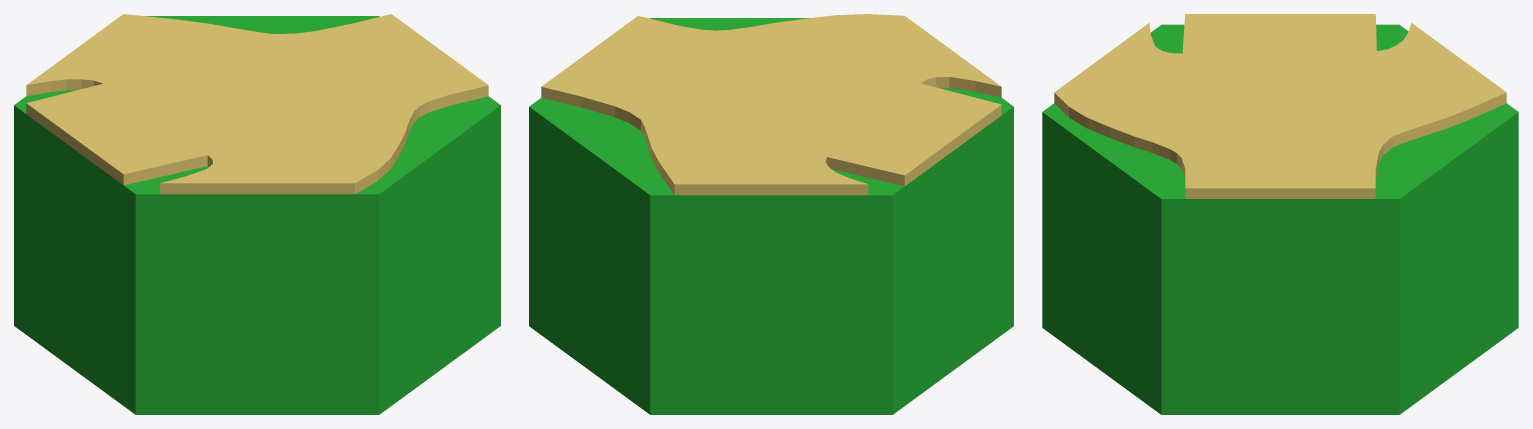
The model's file is module-corner_land_path_fork.glb.
3 renders of one model, left to right at view 1: azimuth 30°, elevation 25°; view 2: azimuth 150°, elevation 25°; view 3: azimuth 270°, elevation 25°, orthographic. The views are drawn at different scales.
Visible parts, largest first — view 1: module-corner_land_path_fork; view 2: module-corner_land_path_fork; view 3: module-corner_land_path_fork.
Boxes of the visible parts, <box> form: module-corner_land_path_fork: <box>14,14,500,414</box>; module-corner_land_path_fork: <box>529,14,1013,414</box>; module-corner_land_path_fork: <box>1042,14,1518,414</box>.
Bounding box in the file's own units: 0.866 × 0.525 × 1.
